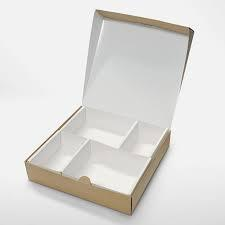box: (24, 8, 194, 216)
